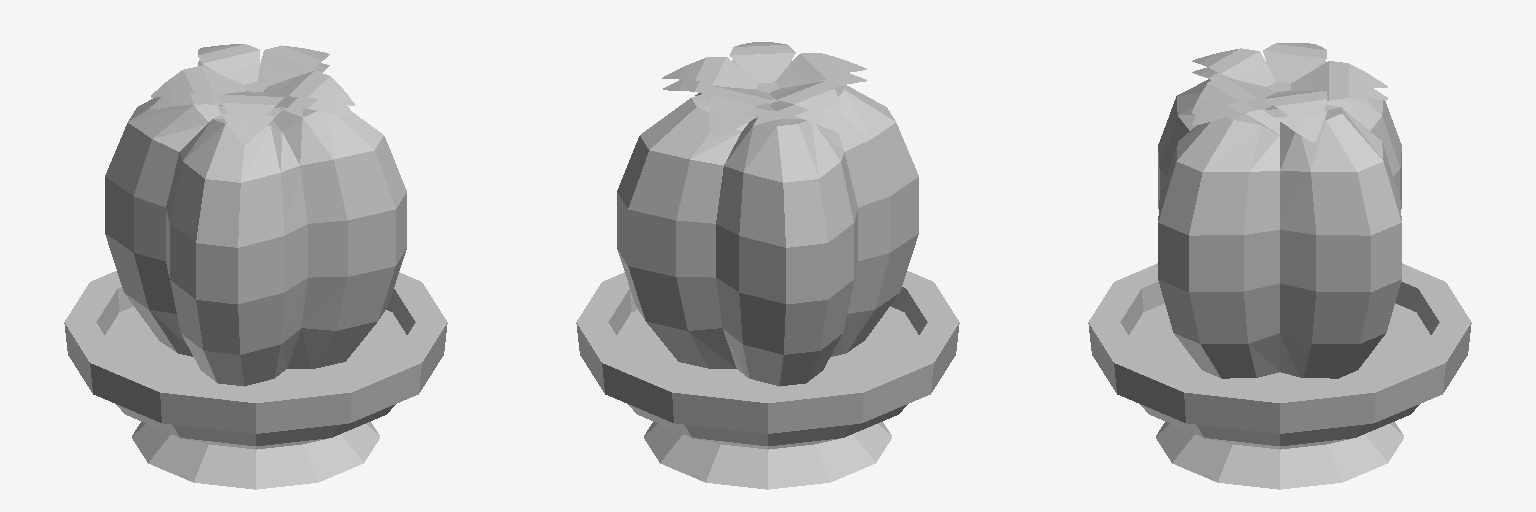
The model's file is cactus.obj.
The picture shows the model from 3 angles: view 1: azimuth 30°, elevation 25°; view 2: azimuth 150°, elevation 25°; view 3: azimuth 270°, elevation 25°; orthographic projection.
Visible parts, largest first — view 1: Star, Circle, Plane.002, Circle.001, Plane.001; view 2: Star, Circle, Plane.002, Circle.001, Plane.001; view 3: Star, Circle, Plane.002, Circle.001, Plane.001.
Part boxes in pixels (bbox=[...]): Star: bbox=[105, 97, 406, 386]; Circle: bbox=[64, 271, 447, 489]; Plane.002: bbox=[151, 44, 354, 132]; Circle.001: bbox=[105, 306, 406, 389]; Plane.001: bbox=[150, 60, 354, 143]; Star: bbox=[617, 85, 918, 386]; Circle: bbox=[576, 271, 959, 489]; Plane.002: bbox=[662, 42, 866, 126]; Circle.001: bbox=[617, 306, 918, 389]; Plane.001: bbox=[663, 60, 866, 138]; Star: bbox=[1158, 79, 1401, 378]; Circle: bbox=[1088, 263, 1471, 489]; Plane.002: bbox=[1192, 43, 1387, 130]; Circle.001: bbox=[1129, 303, 1430, 389]; Plane.001: bbox=[1192, 61, 1387, 141].
Size of the model in its own units: 12.3 by 12.82 by 12.3.